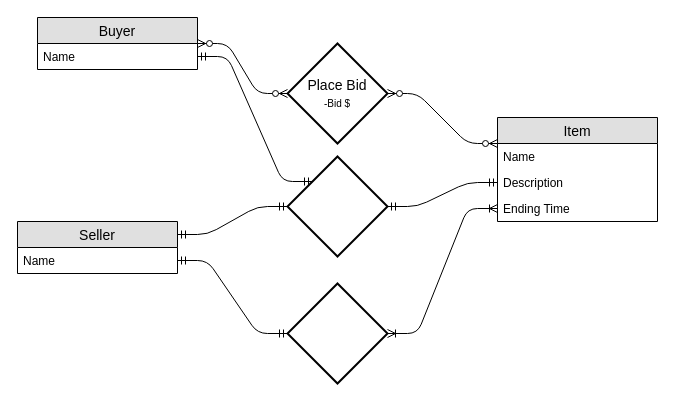
This 675x402 diagram has some shape labels left out. Each missing label, with the centre of its shape:
Close -highest bid: pixel 337 206
Post -starting price: pixel 337 333
